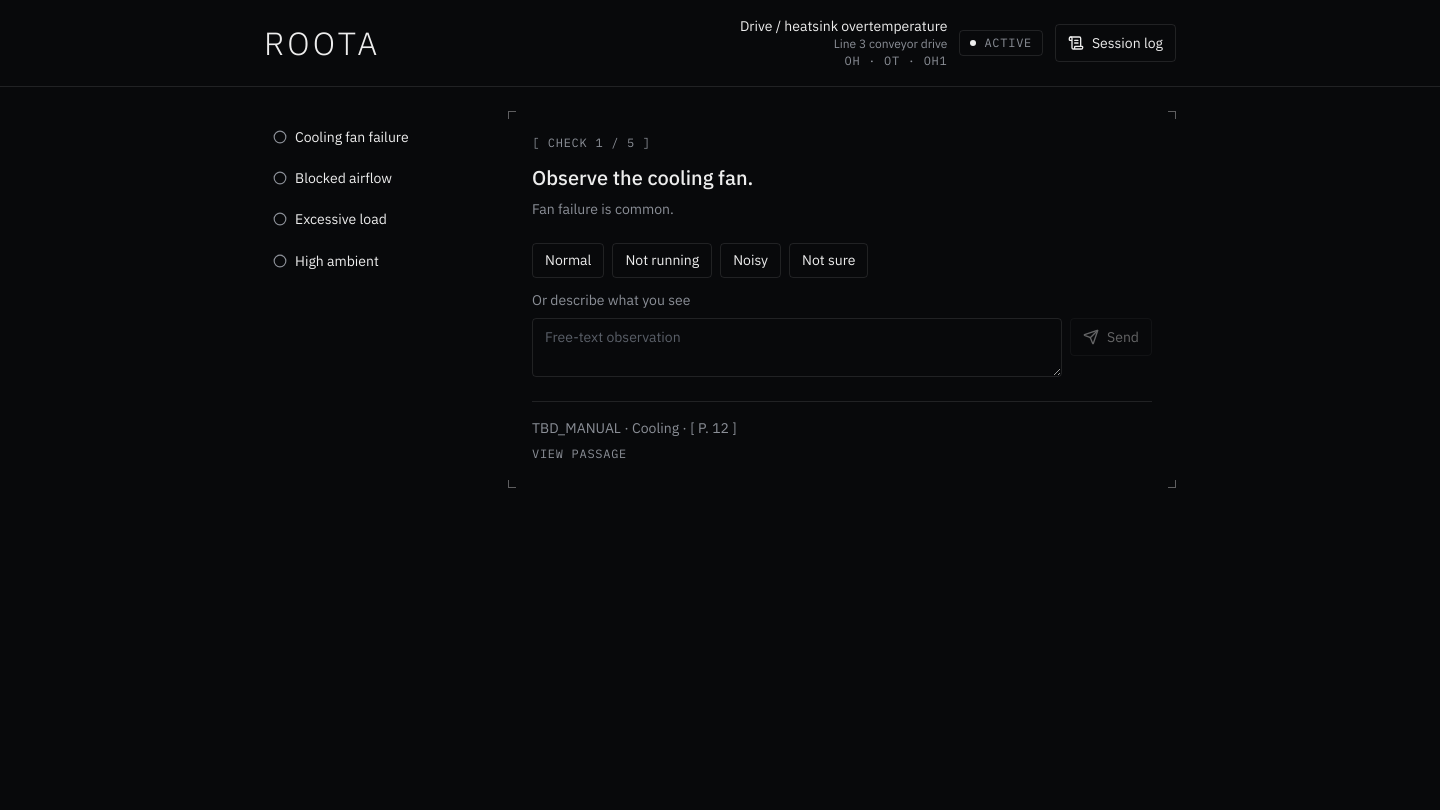
Test: SessionScreen › opens the session log drawer
Click the button "Session log".
click(1116, 43)  # box [1055, 24, 1176, 62]
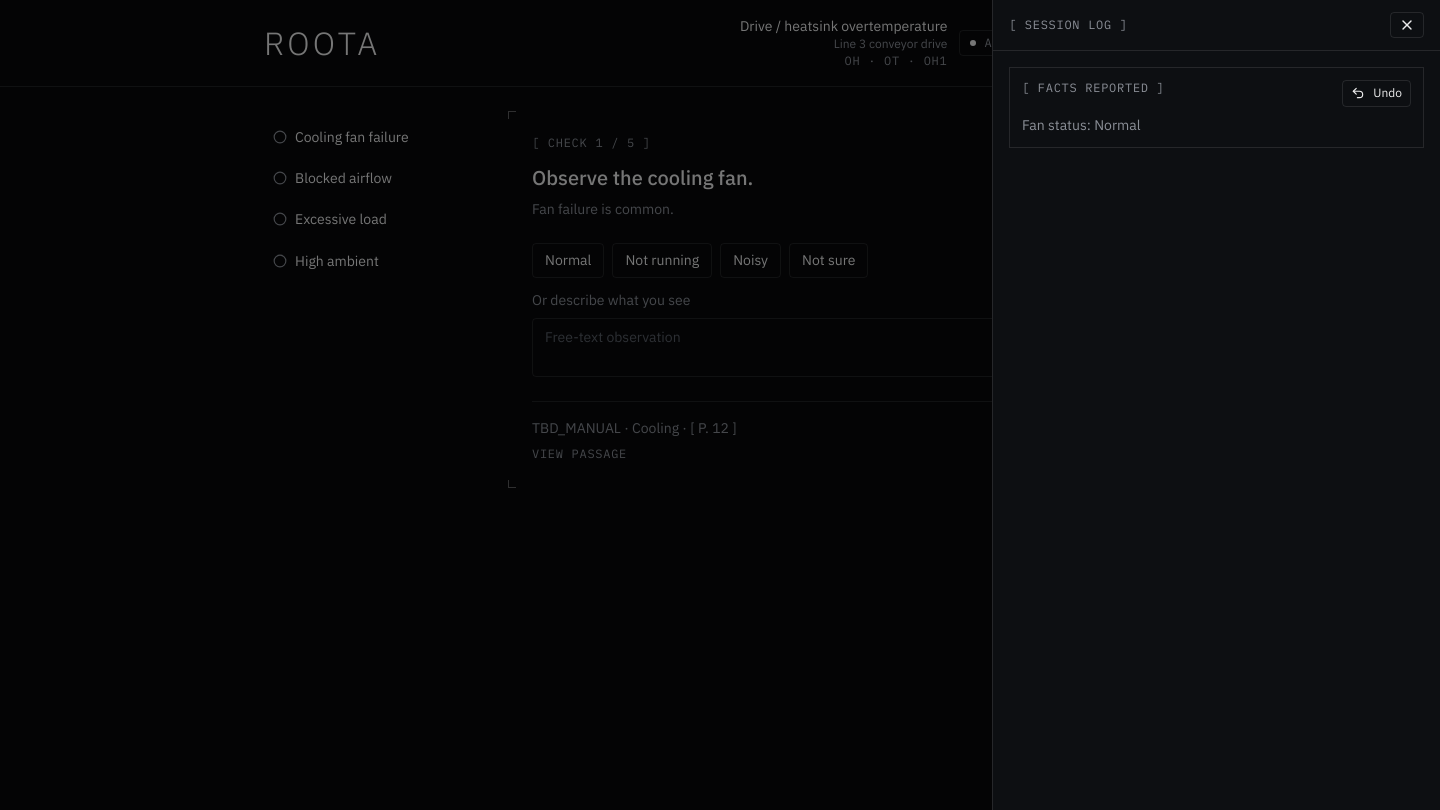
Expected: the dialog "[ SESSION LOG ] [ facts reported ] Undo Fan status: Normal" is shown, [992, 0, 1439, 809]
Expected: the text "Fan status: Normal" is shown, [1022, 116, 1141, 134]
